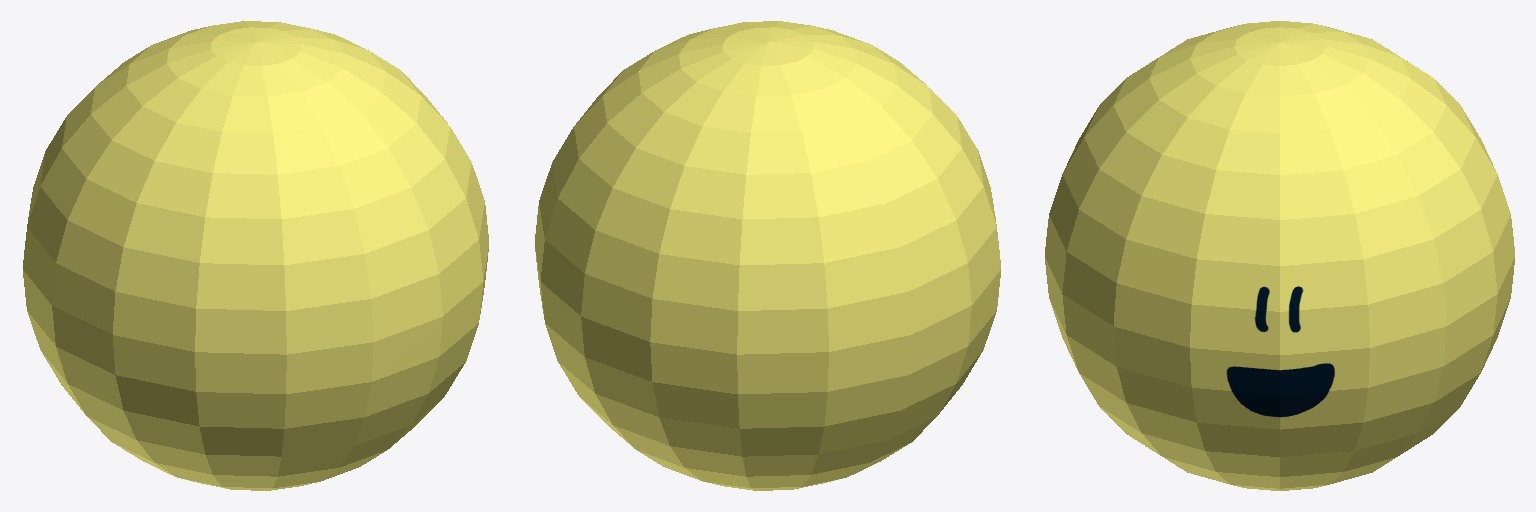
3 views of the same model, side by side, from view 1: azimuth 30°, elevation 25°; view 2: azimuth 150°, elevation 25°; view 3: azimuth 270°, elevation 25° (orthographic).
Parts seen in each view (by area): view 1: Sun; view 2: Sun; view 3: Sun.
Part boxes in pixels (x1,y1,x2,y2): Sun: (23,21,488,490); Sun: (535,21,1000,490); Sun: (1045,21,1514,490).
Bounding box in the file's own units: 2 × 2 × 2.
Materials: 1 (1 with a texture image).